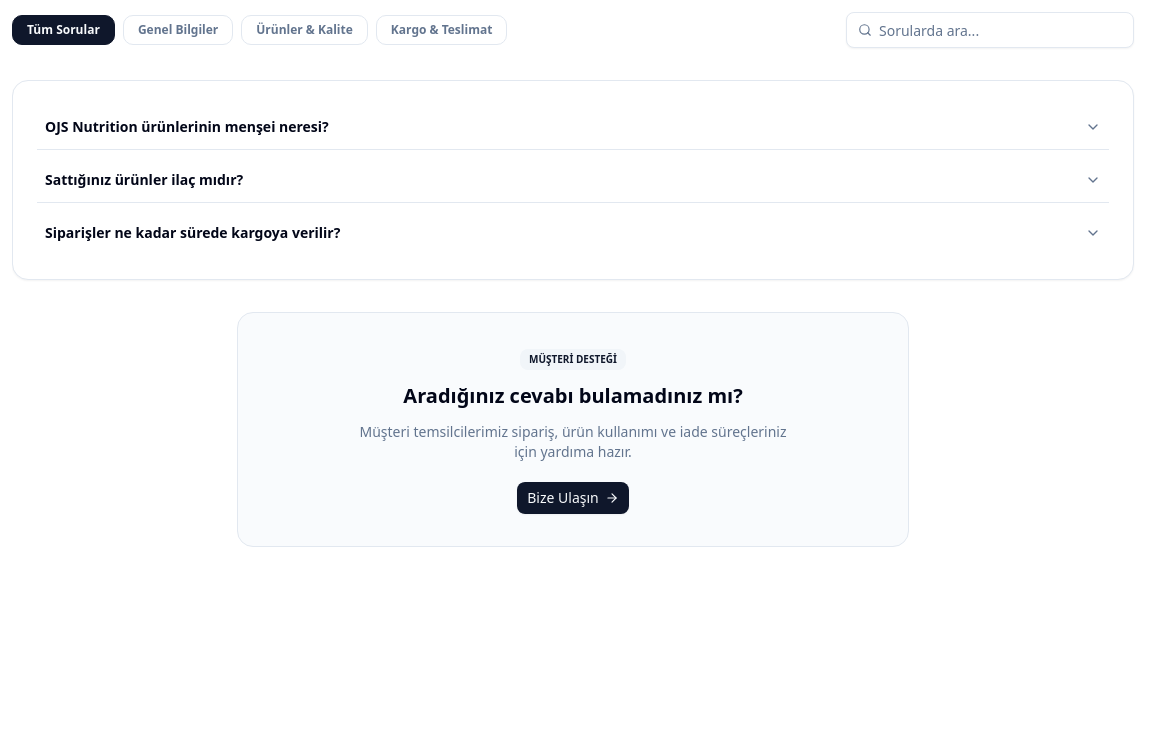
Test: FaqList Component › displays empty state message when search query yields no matches
Type "bulunmayan kelime xyz" into the search field with placeholder "Sorularda ara...".
click(990, 30); type("bulunmayan kelime xyz")  # box [846, 12, 1134, 48]
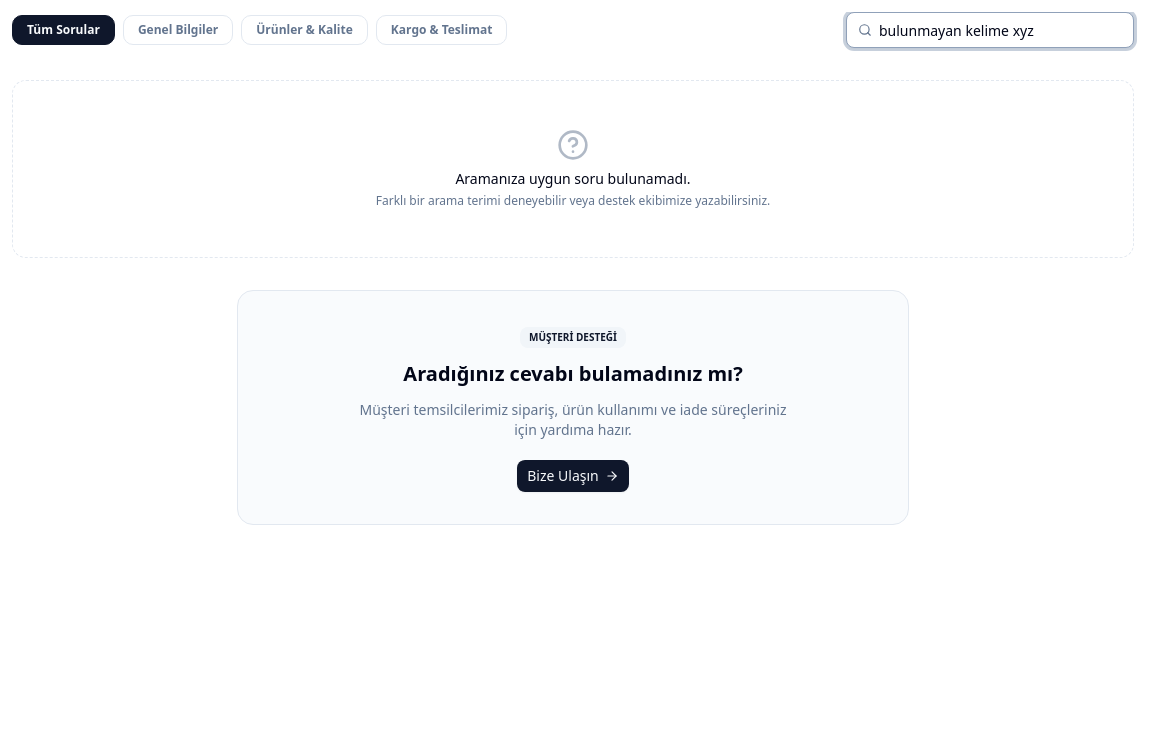
Expected: the text "Aramanıza uygun soru bulunamadı." is shown, [455, 169, 690, 188]
Expected: the button "OJS Nutrition ürünlerinin menşei neresi?" is gone
